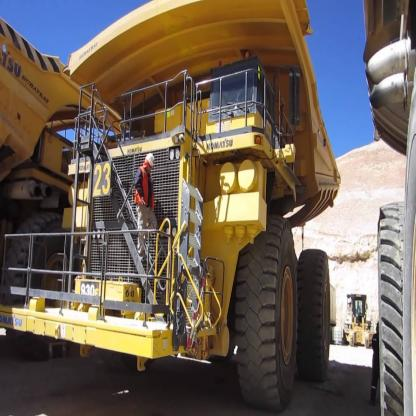dump_truck: (34, 0, 342, 397)
